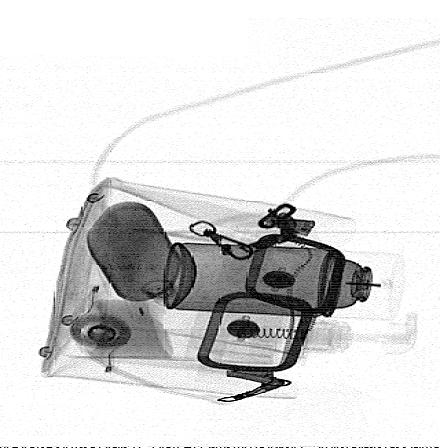Sprayer: (163, 241, 407, 321)
